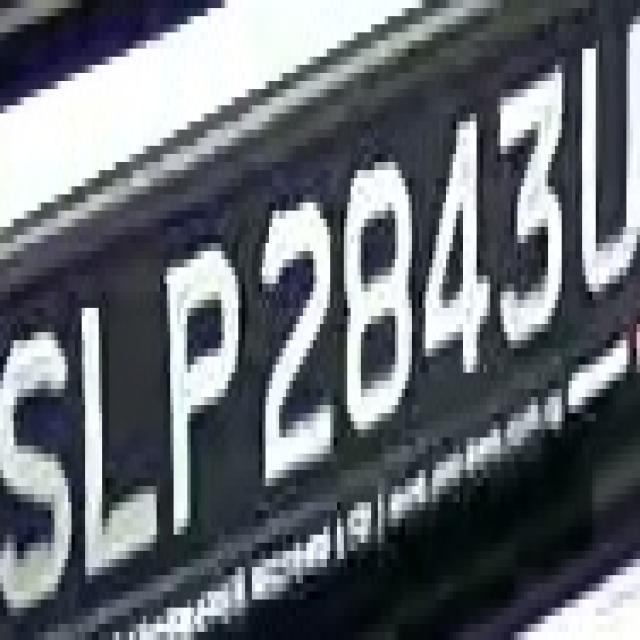2: (248, 170, 340, 502)
3: (487, 81, 575, 340)
4: (415, 113, 494, 397)
8: (337, 146, 426, 470)
L: (68, 267, 163, 584)
P: (164, 243, 248, 567)
S: (7, 284, 75, 616)
U: (582, 16, 633, 316)
